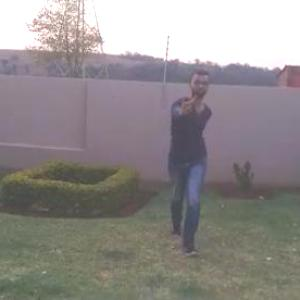takeoff-hand: (177, 87, 202, 118)
